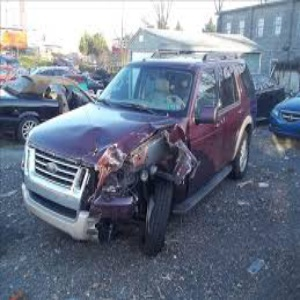bonnet: (78, 118, 140, 169)
bumper: (84, 175, 146, 246)
